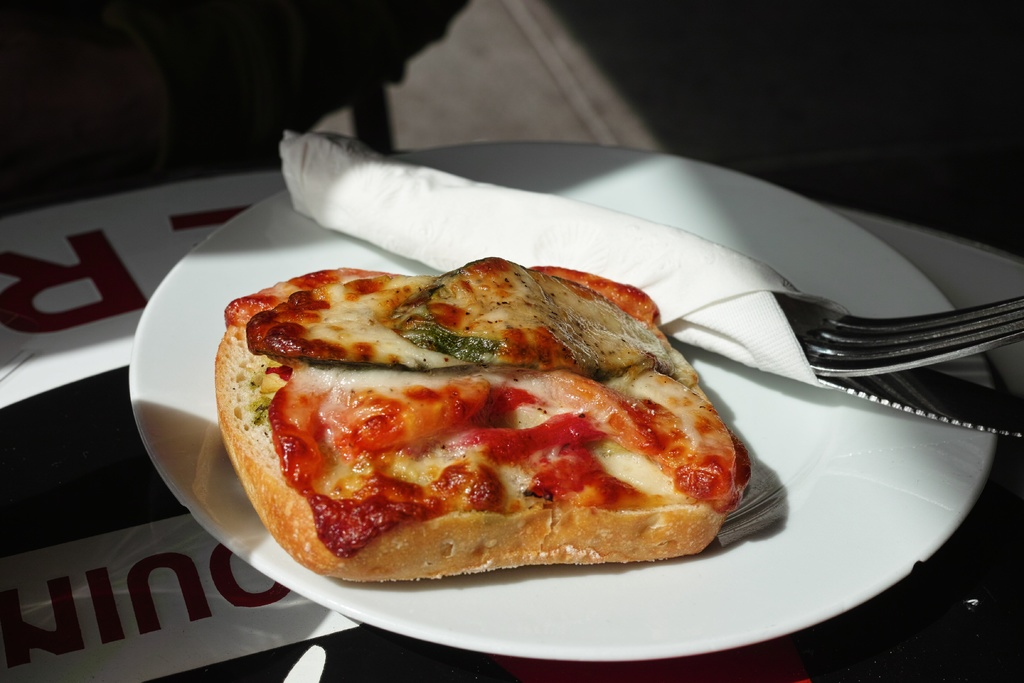Pizza: (207, 258, 762, 597)
